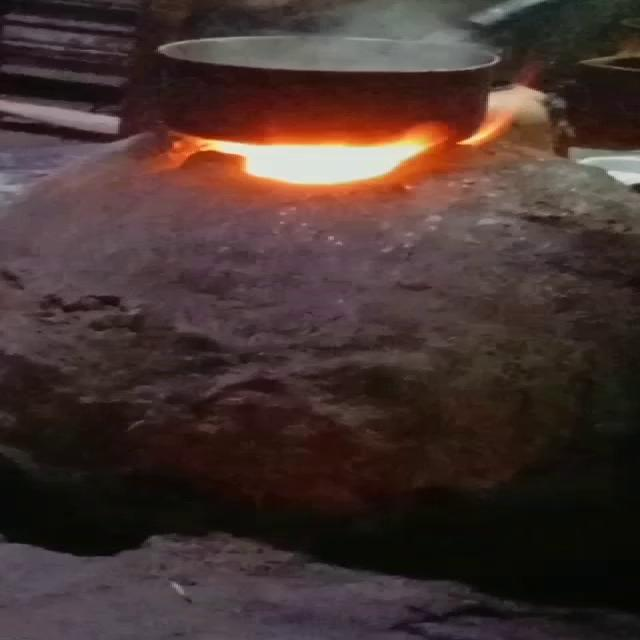Fire: (200, 130, 436, 189)
